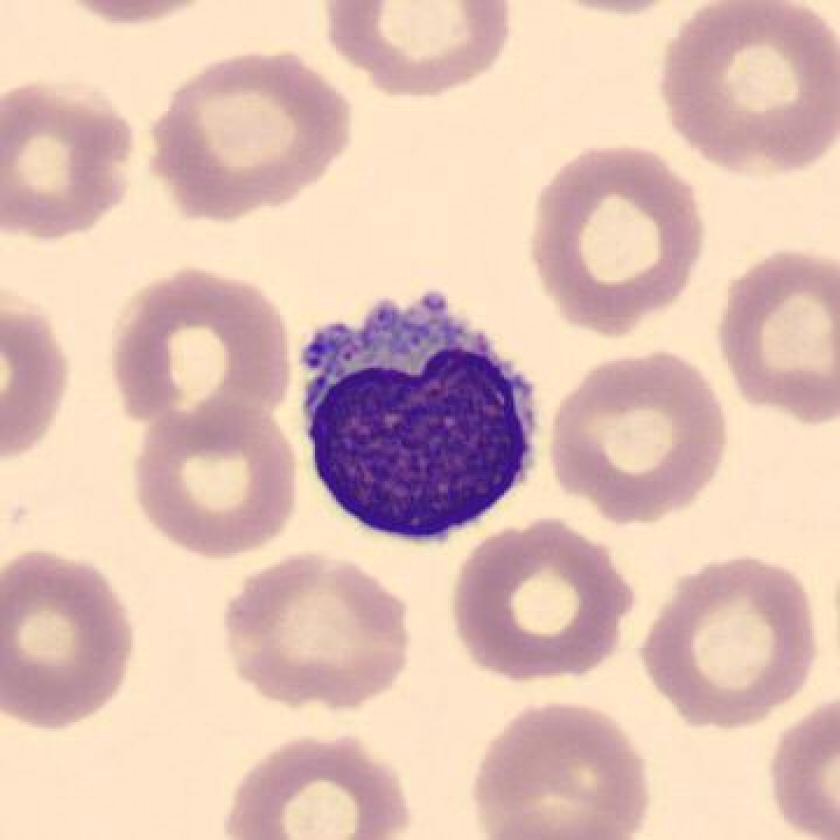lymphocyte: (286, 283, 552, 559)
